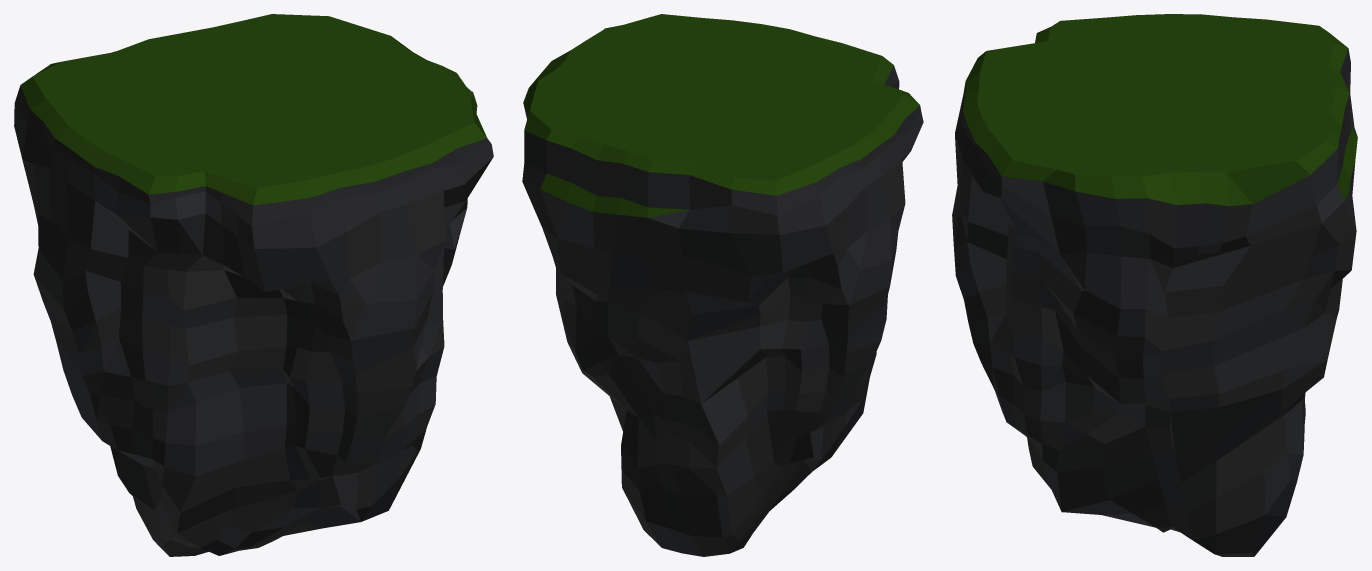
Rendered from RuinIsland.fbx.
The picture shows the model from 3 angles, left to right: view 1: azimuth 30°, elevation 25°; view 2: azimuth 150°, elevation 25°; view 3: azimuth 270°, elevation 25°; orthographic projection. The views are drawn at different scales.
Visible parts, largest first — view 1: StoneIsland.003; view 2: StoneIsland.003; view 3: StoneIsland.003.
Boxes of the visible parts, box(x1,y1,x2,y2) form: StoneIsland.003: box(14, 14, 493, 556); StoneIsland.003: box(522, 14, 923, 556); StoneIsland.003: box(952, 14, 1357, 556).
Bounding box in the file's own units: 7185 × 8367 × 6745.
